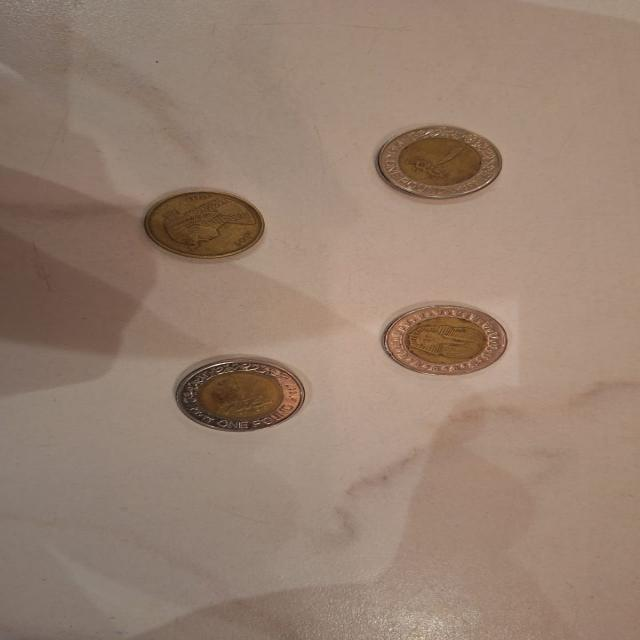Half Pound: (141, 188, 269, 261)
One Pound: (174, 357, 309, 432)
